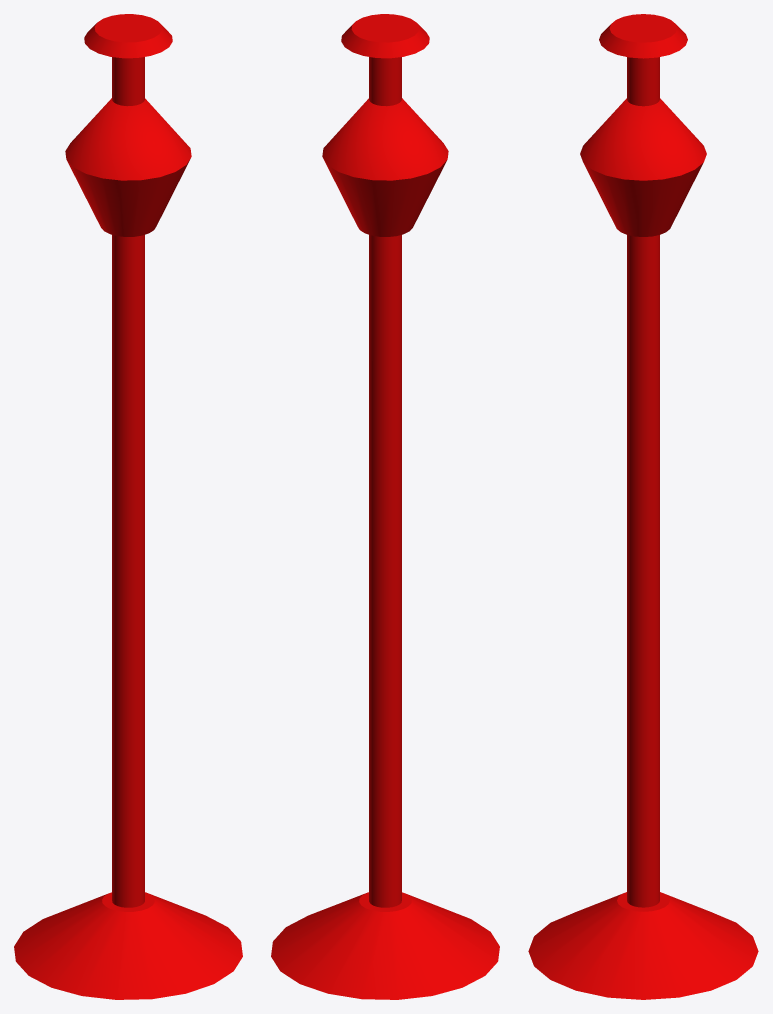
The model's file is LightCandleHolderB02Collider.fbx.
3 renders of one model, left to right at view 1: azimuth 30°, elevation 25°; view 2: azimuth 150°, elevation 25°; view 3: azimuth 270°, elevation 25°, orthographic.
Visible parts, largest first — view 1: LightCandleHolderB02Collision; view 2: LightCandleHolderB02Collision; view 3: LightCandleHolderB02Collision.
Part boxes in pixels (x1,y1,x2,y2): LightCandleHolderB02Collision: [14, 14, 242, 999]; LightCandleHolderB02Collision: [271, 14, 499, 999]; LightCandleHolderB02Collision: [528, 14, 758, 999].
Bounding box in the file's own units: 36.22 × 160 × 36.22.
